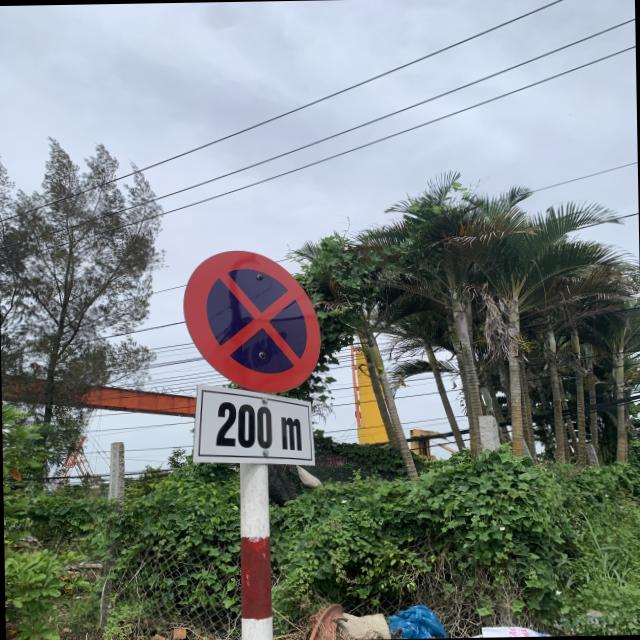Cam_Dung_Va_Dau_Xe: (182, 247, 322, 393)
